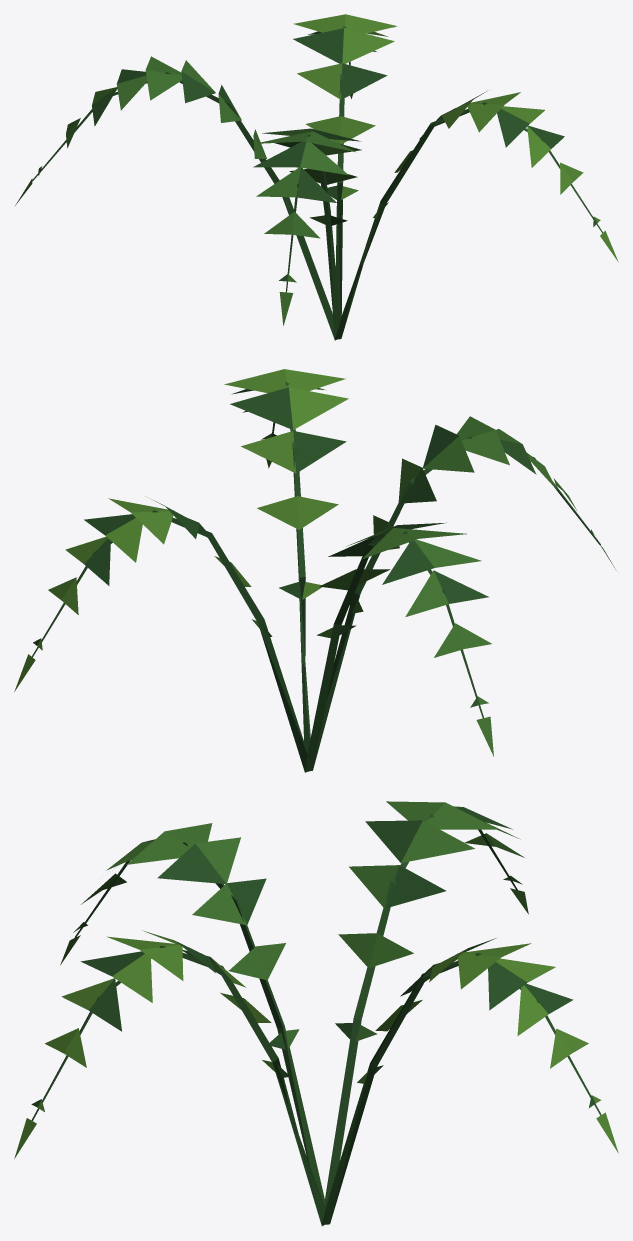
The model's file is fern_young.fbx.
3 renders of one model, top to bottom at view 1: azimuth 30°, elevation 25°; view 2: azimuth 150°, elevation 25°; view 3: azimuth 270°, elevation 25°, orthographic. The views are drawn at different scales.
Visible parts, largest first — view 1: fern_young; view 2: fern_young; view 3: fern_young.
Boxes of the visible parts, x1=… form: fern_young: x1=15, y1=14, x2=618, y2=340; fern_young: x1=14, y1=369, x2=616, y2=772; fern_young: x1=14, y1=801, x2=618, y2=1226.
Size of the model in its own units: 119 by 76.89 by 126.
1 material, 1 textured.
